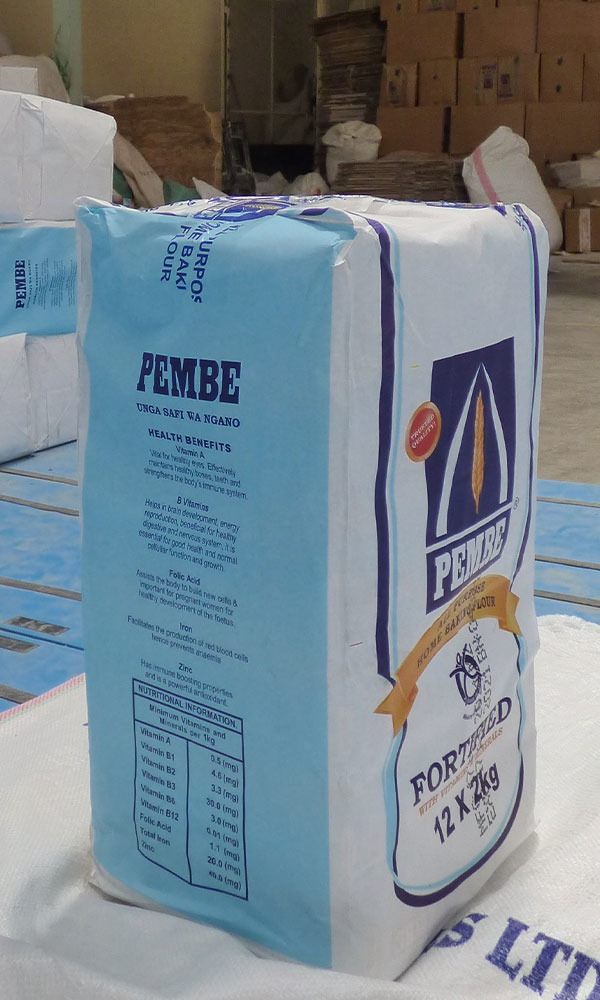wheat_flour_blue_label: (69, 191, 534, 969)
